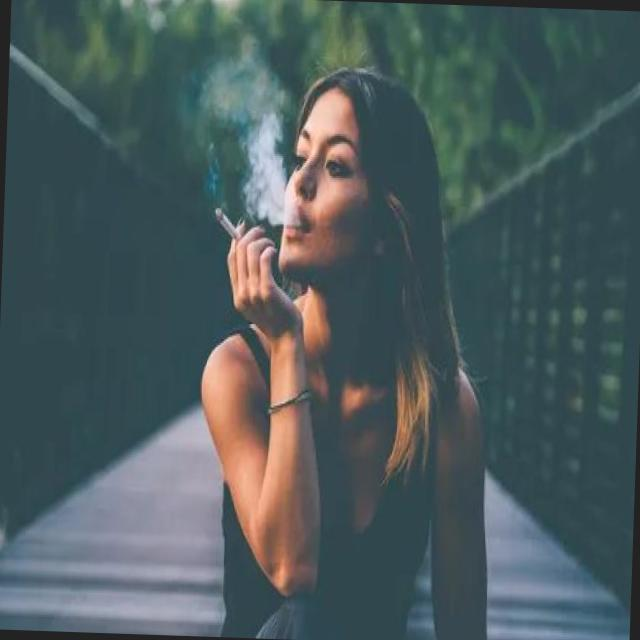smoke: (206, 203, 250, 247)
